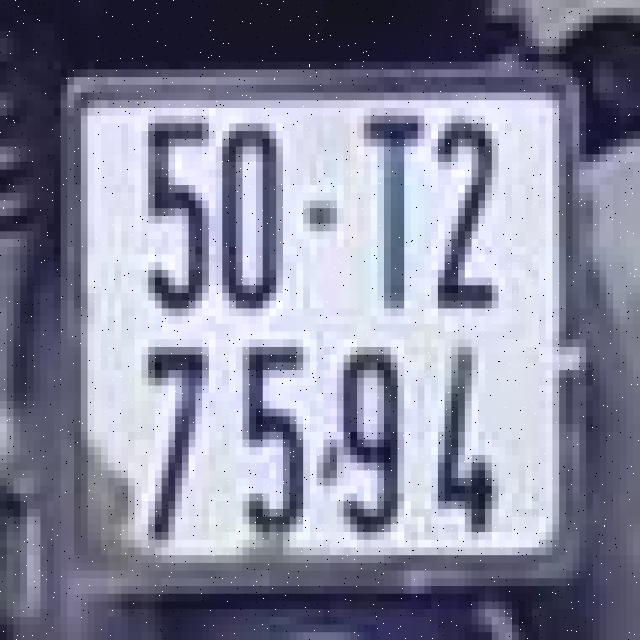0: (216, 112, 290, 320)
2: (431, 100, 519, 324)
4: (428, 340, 515, 548)
5: (131, 108, 219, 324), (236, 328, 310, 544)
7: (125, 340, 212, 548)
9: (334, 340, 414, 548)
T: (350, 100, 431, 324)
